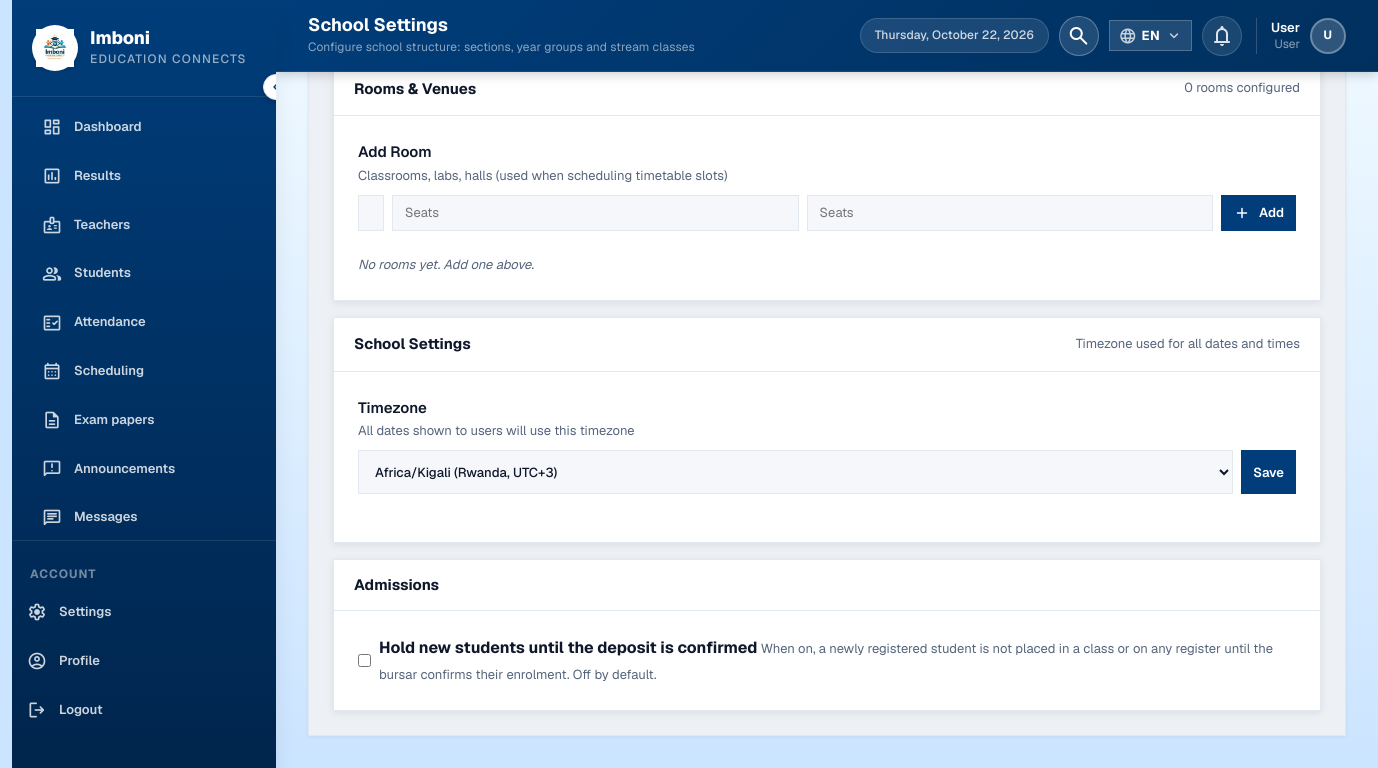
Test: DosSettings admissions switch › puts the switch back and says why when the save fails
The image size is (1378, 768).
(page scrolled)
What coordinates should you click on to do the following:
click the checkbox labelled "Hold new students until the deposit is confirmed"
I would click on:
 (364, 661)
Its box is left=358, top=654, right=371, bottom=667.
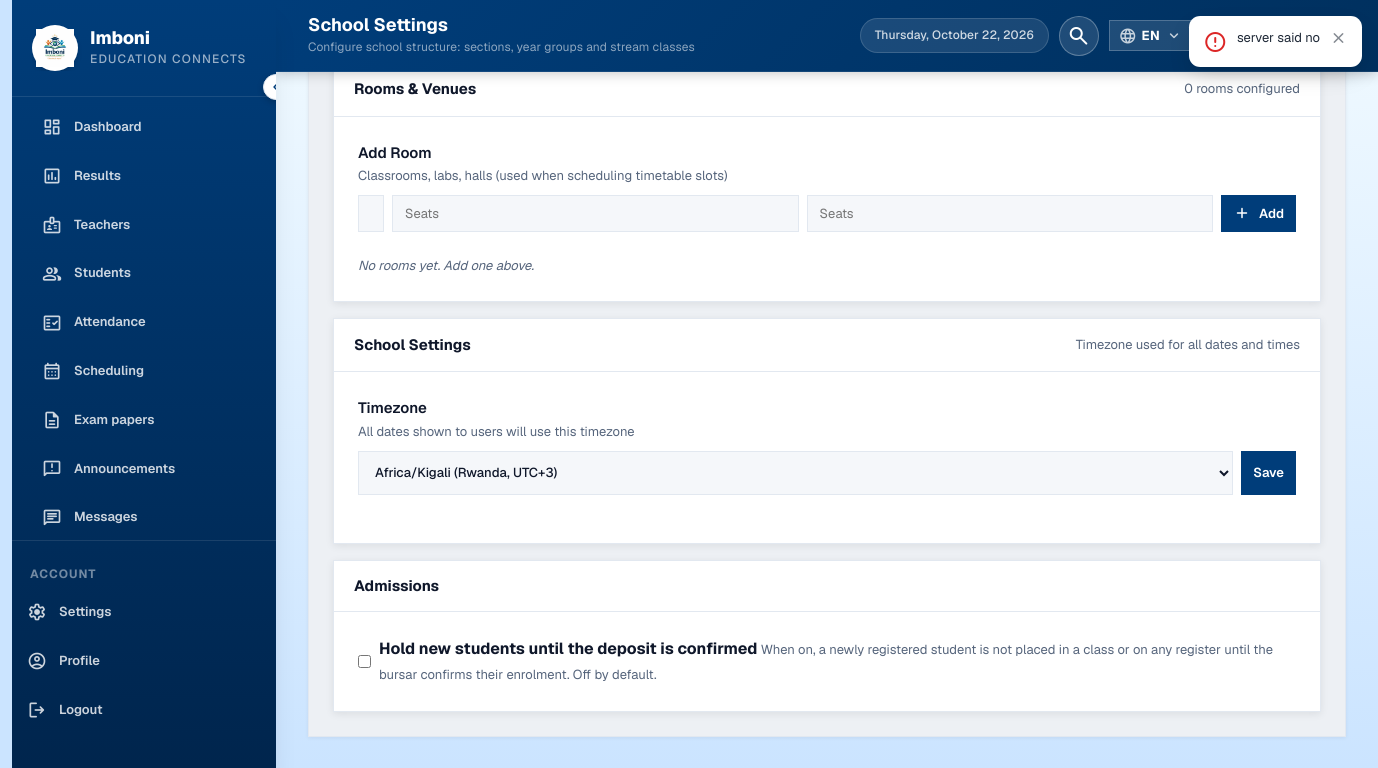
Now the text "server said no" is shown, box left=1237, top=29, right=1320, bottom=47
